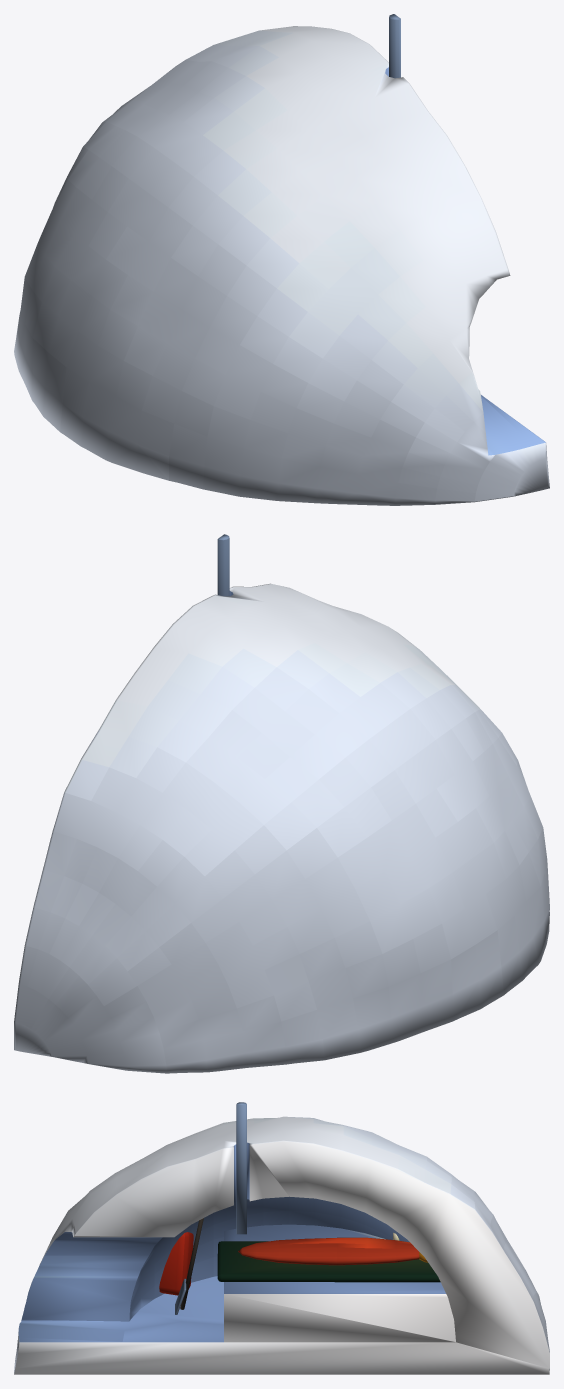
The model's file is RaisedCave_section.glb.
3 views of the same model, one above another, from view 1: azimuth 30°, elevation 25°; view 2: azimuth 150°, elevation 25°; view 3: azimuth 270°, elevation 25° (orthographic). The views are drawn at different scales.
Parts seen in each view (by area): view 1: sec_mound, sec_vent; view 2: sec_mound, sec_vent; view 3: sec_mound, sec_platform, sec_bed, sec_bag, sec_vent, sec_pack, sec_shovel_shaft.
Boxes of the visible parts, x1=… form: sec_mound: x1=14, y1=26, x2=549, y2=505; sec_vent: x1=389, y1=14, x2=400, y2=78; sec_mound: x1=14, y1=583, x2=549, y2=1073; sec_vent: x1=217, y1=534, x2=229, y2=596; sec_mound: x1=14, y1=1116, x2=549, y2=1374; sec_platform: x1=224, y1=1224, x2=455, y2=1342; sec_bed: x1=217, y1=1241, x2=440, y2=1282; sec_bag: x1=238, y1=1237, x2=419, y2=1265; sec_vent: x1=236, y1=1102, x2=246, y2=1234; sec_pack: x1=159, y1=1232, x2=193, y2=1295; sec_shovel_shaft: x1=180, y1=1218, x2=203, y2=1309.
Bounding box in the file's own units: 2.25 × 2.5 × 4.5.
